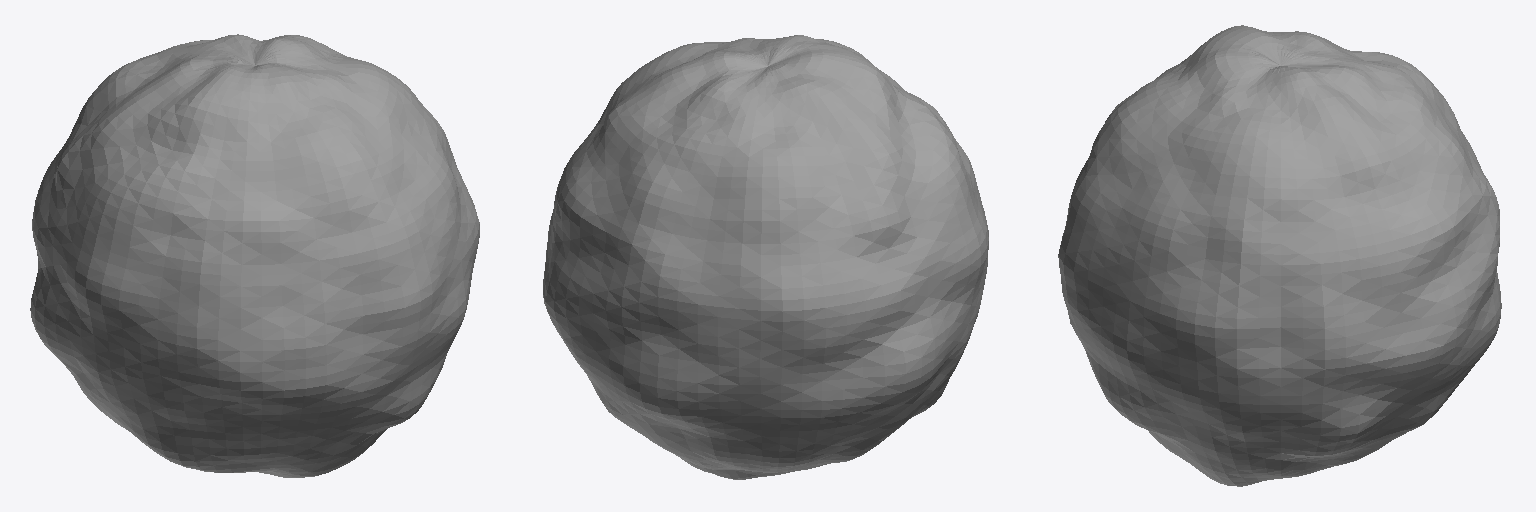
Rendered from lava.obj.
3 views of the same model, side by side, from view 1: azimuth 30°, elevation 25°; view 2: azimuth 150°, elevation 25°; view 3: azimuth 270°, elevation 25° (orthographic).
Visible parts, largest first — view 1: Sphere; view 2: Sphere; view 3: Sphere.
Part boxes in pixels (left/top/right/bottom): Sphere: left=30, top=34, right=479, bottom=477; Sphere: left=543, top=35, right=988, bottom=479; Sphere: left=1058, top=25, right=1501, bottom=486.
Bounding box in the file's own units: 1.93 × 1.95 × 1.94.